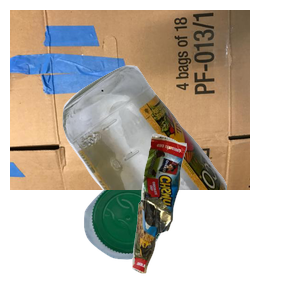cardboard: (10, 10, 250, 190)
glass: (60, 63, 300, 243)
plastic: (81, 179, 239, 300)
trash: (130, 131, 300, 300)
